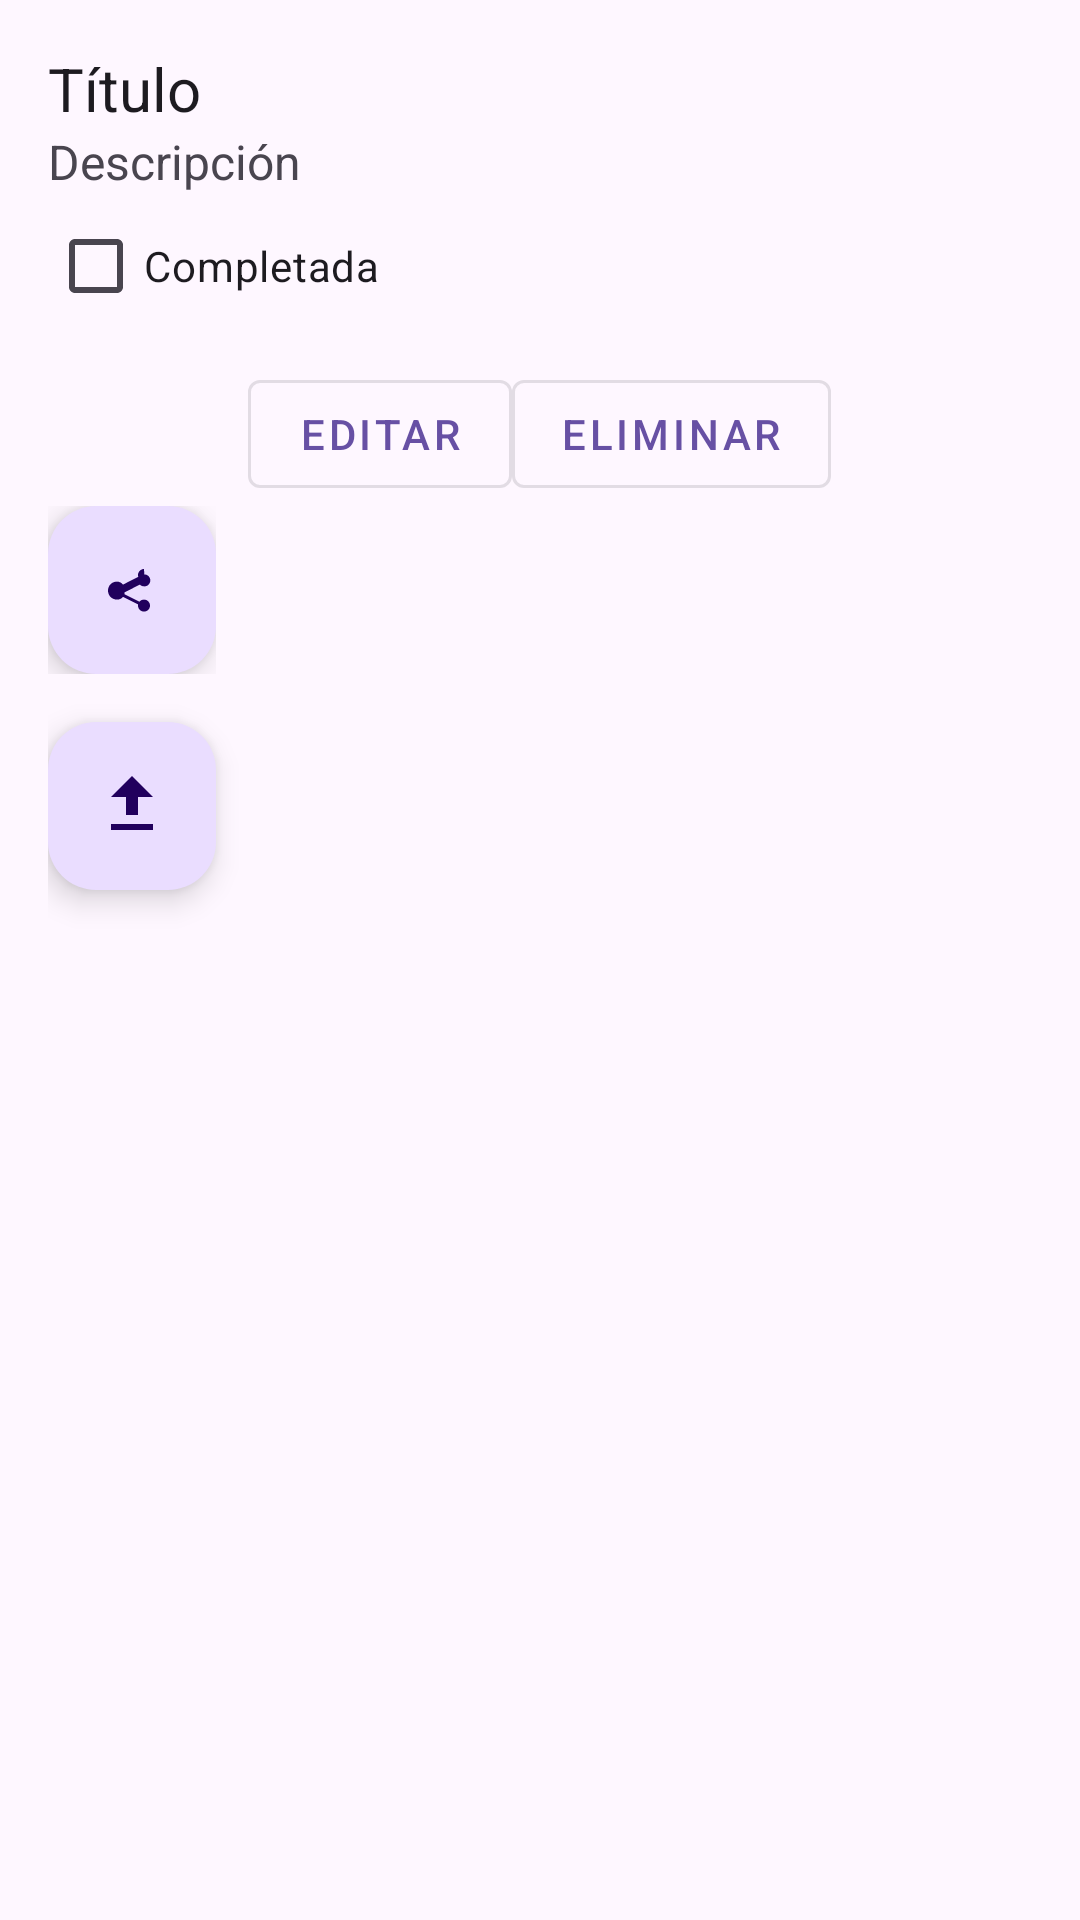

Point at icon controls on the screen. Image size 1080px×1920px, points as (x,y).
Compartir: (132,590)
Exportar tarea: (132,806)
